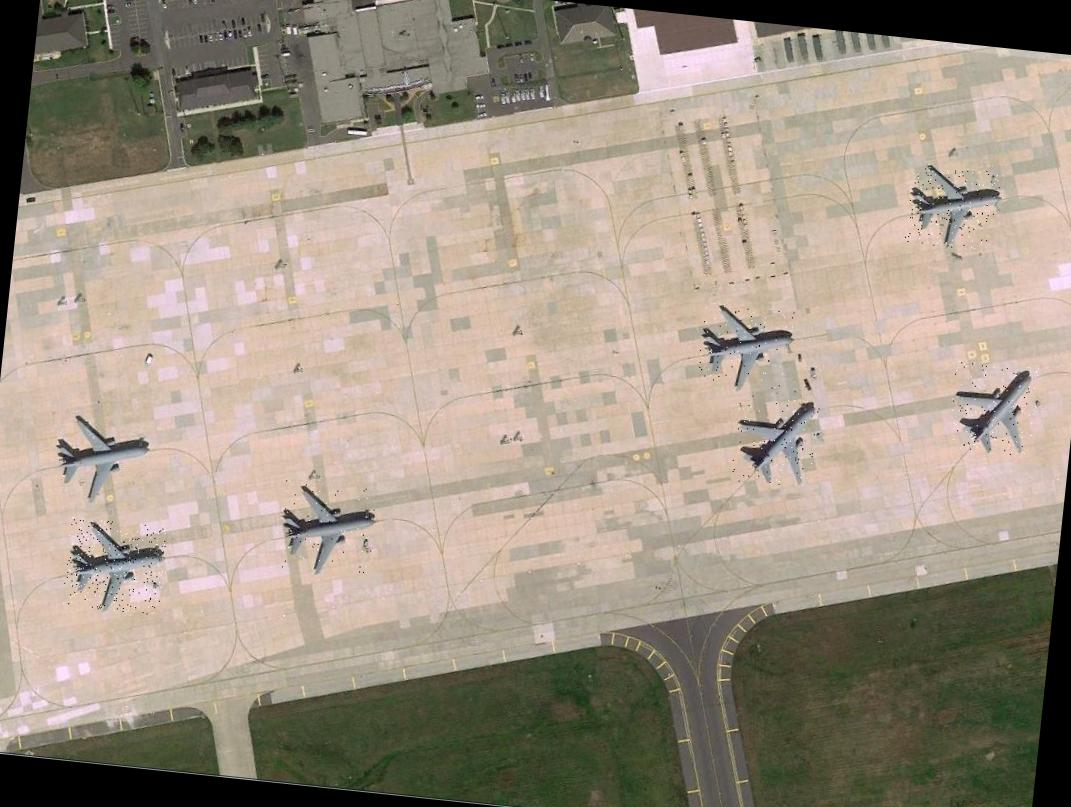A18: (272, 479, 380, 580), (62, 516, 168, 615), (48, 409, 152, 506), (696, 300, 796, 389), (947, 359, 1038, 456), (730, 392, 820, 488), (904, 162, 1001, 251)
